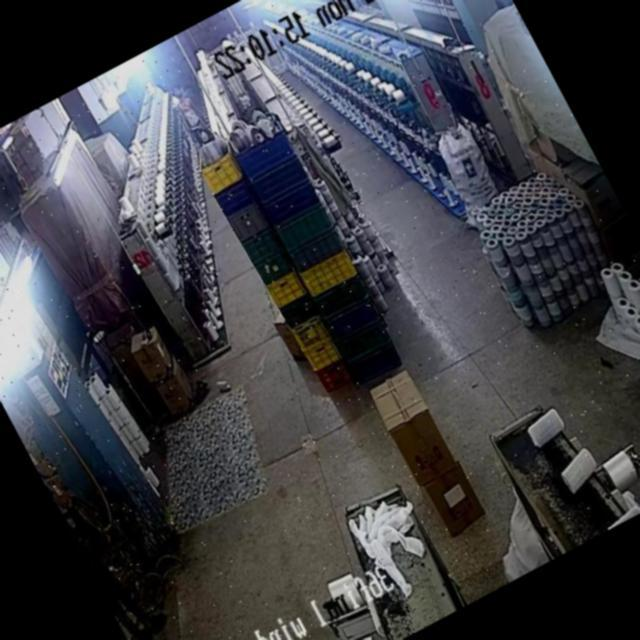person: (54, 486, 167, 640), (166, 80, 209, 142)
